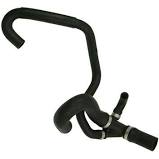radiator_hose: (54, 93, 157, 151)
